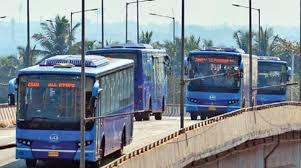Chigari: (22, 54, 128, 163), (92, 39, 169, 120), (187, 49, 256, 121), (248, 56, 291, 109)
